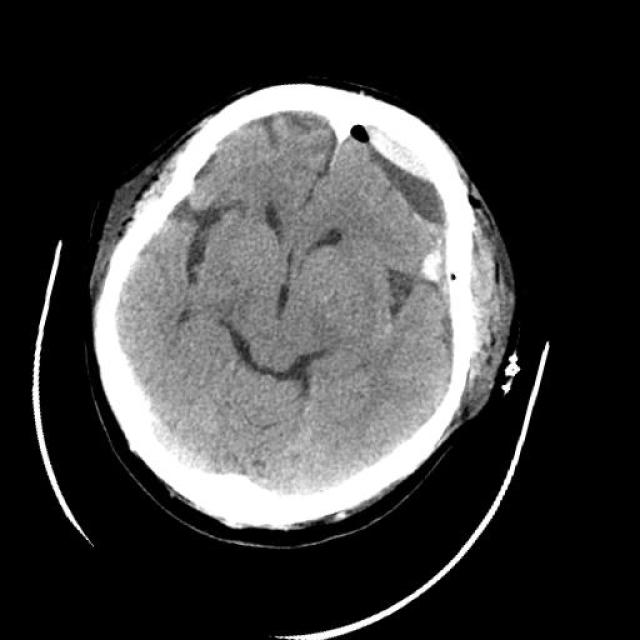Intraparenchymal: (412, 230, 472, 311)
Subarachnoid: (273, 379, 335, 470)
Subdural: (82, 336, 242, 494)
